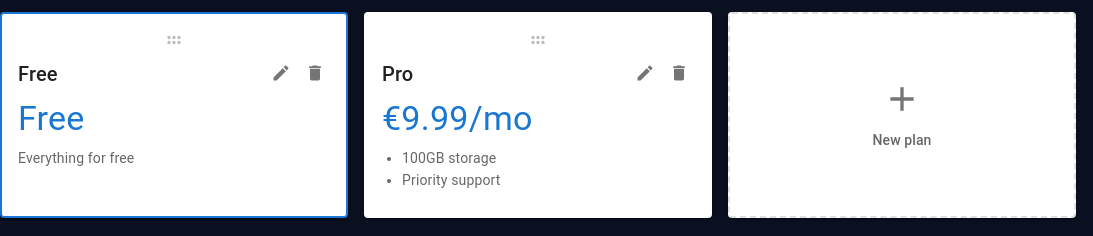
Test: PlanCards › shows edit form when edit icon is clicked on existing card
The image size is (1093, 236).
Click the 2nd button at coordinates (281, 73), box [266, 58, 296, 88]
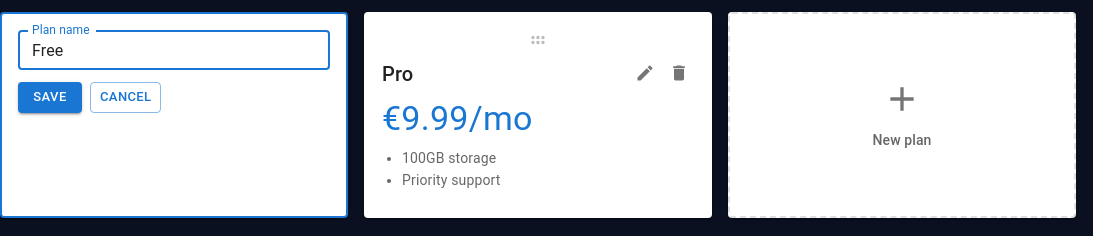
Result: the field showing "Free" is shown at [18, 30, 330, 70]
